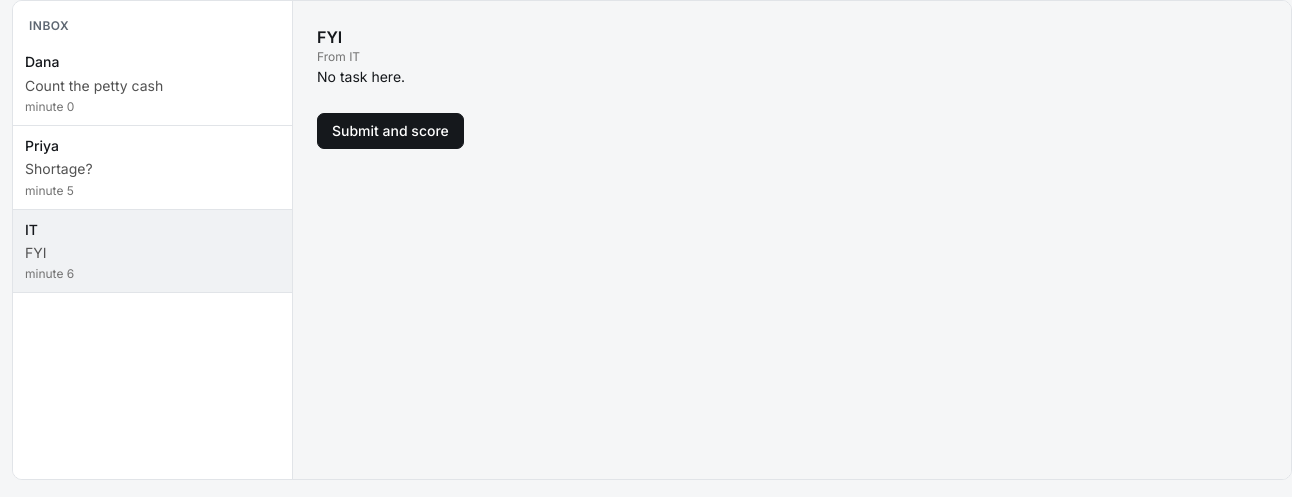
Test: DevWorkspace › shows the error when scoring fails
What coordinates should you click on to do the following:
click the button "Submit and score"
I would click on:
 (390, 131)
Its box is [317,113,464,149].
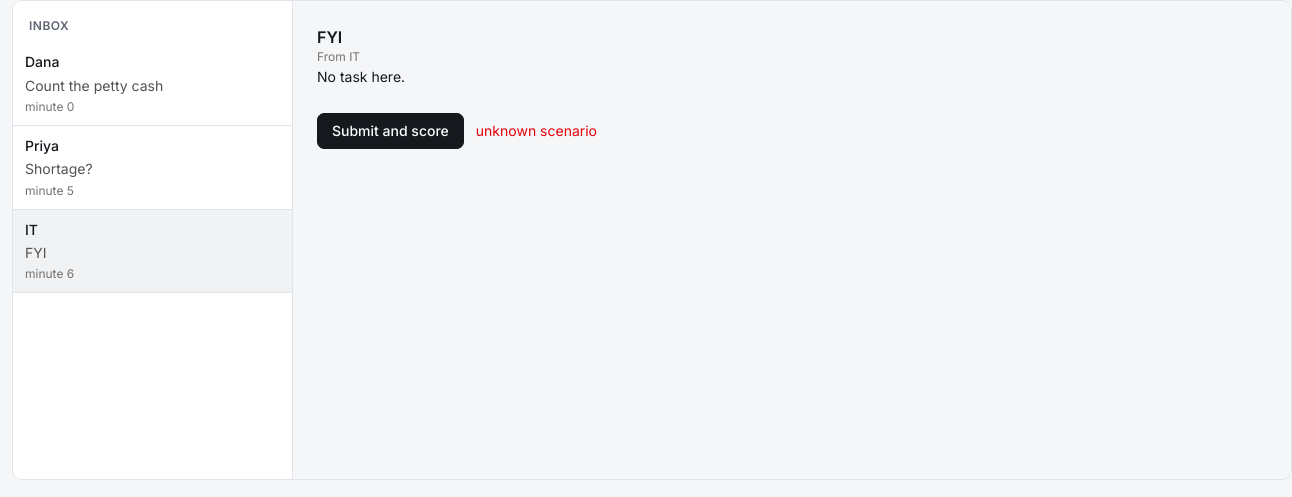
Result: the text "unknown scenario" is shown at [476,121,597,141]
